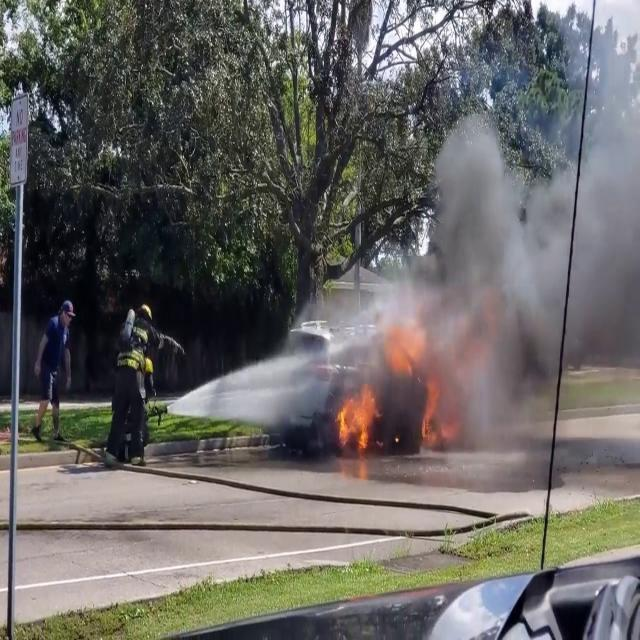Fire: (332, 376, 383, 462)
Smoke: (397, 28, 640, 483)
